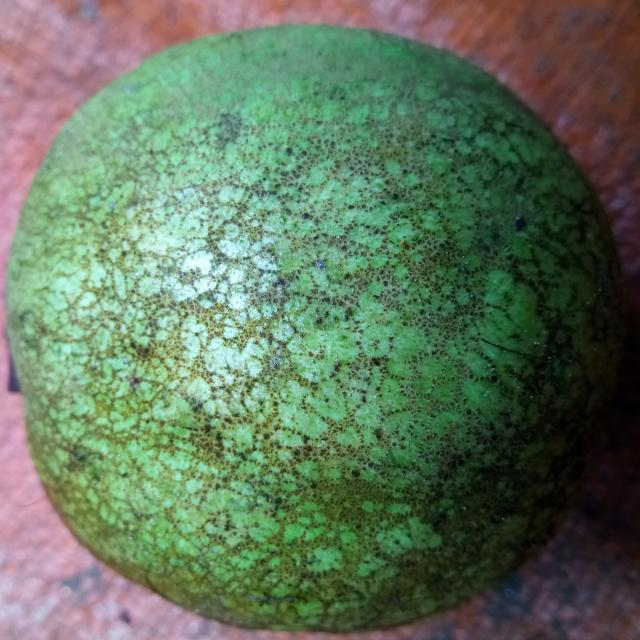Scab: (8, 26, 622, 631)
